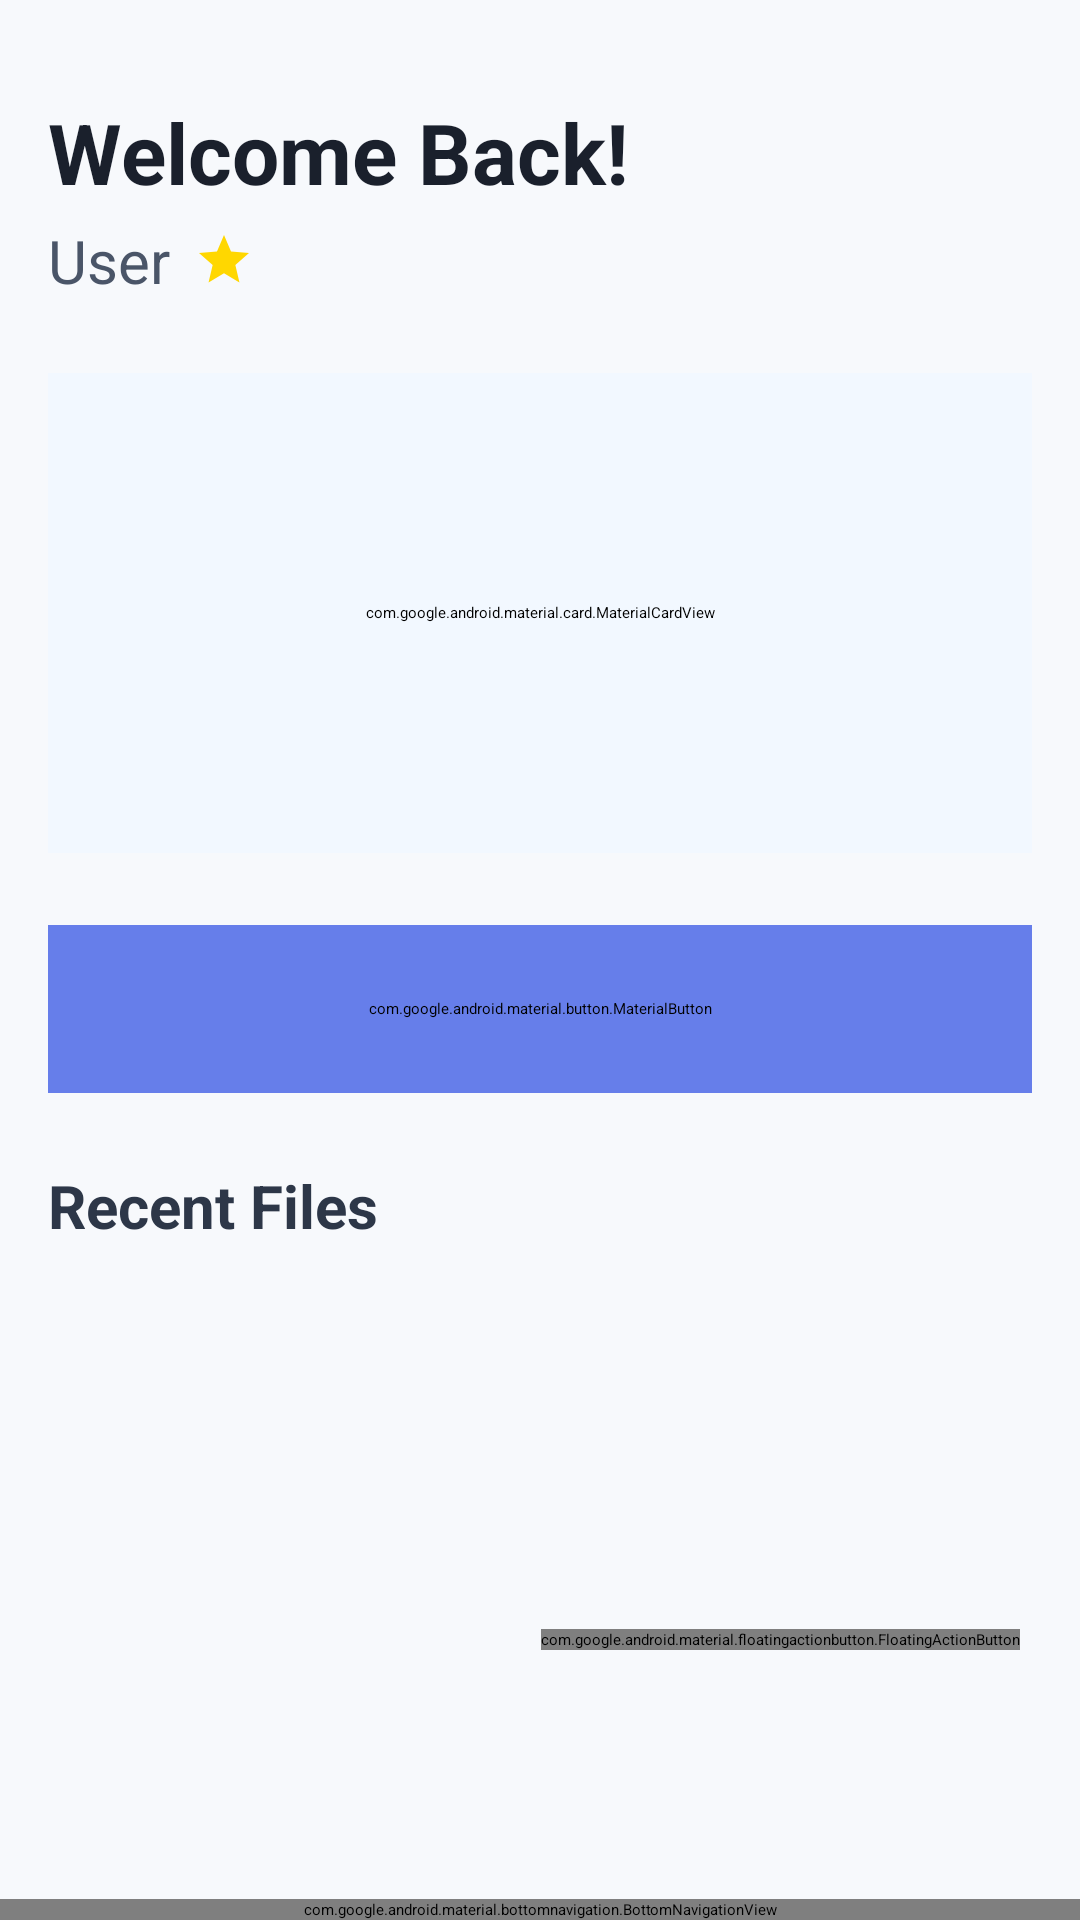

Icons on this 1080 × 1920 Android screen, each with its box as [x1,y1,x2,y2]:
star: [199,235,249,283]
